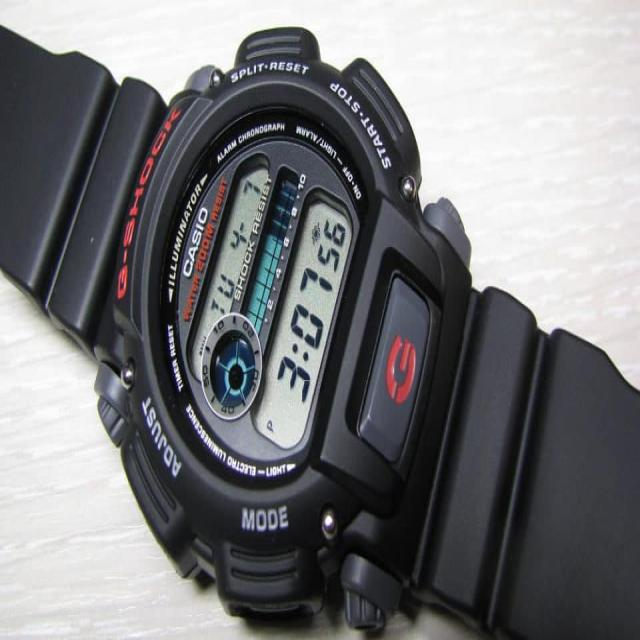watch: (5, 39, 561, 632)
